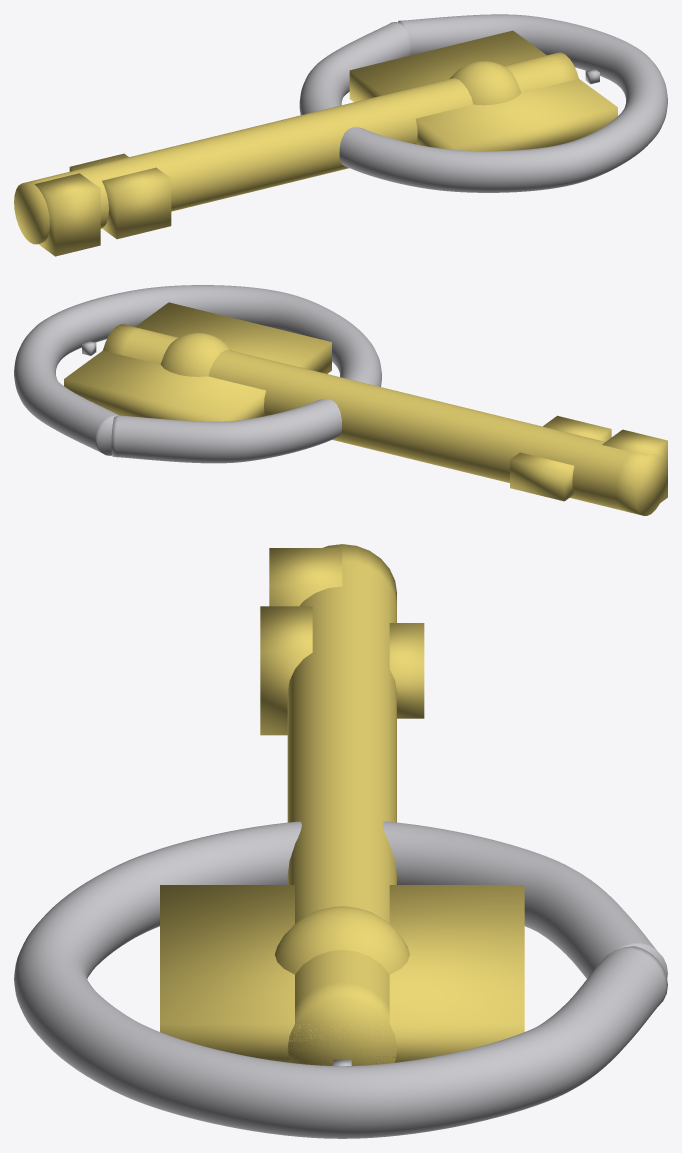
Rendered from tractor_keys.glb.
3 views of the same model, one above another, from view 1: azimuth 30°, elevation 25°; view 2: azimuth 150°, elevation 25°; view 3: azimuth 270°, elevation 25° (orthographic). The views are drawn at different scales.
Parts seen in each view (by area): view 1: KeyRing, KeyShaft, KeyBow, Tooth3, Tooth1, Eyelet; view 2: KeyRing, KeyShaft, KeyBow, Tooth2, Eyelet, Tooth3, Tooth1; view 3: KeyRing, KeyShaft, KeyBow, Eyelet, Tooth1, Tooth3, Tooth2.
Boxes of the visible parts, left/top/right/bottom form: KeyRing: left=299, top=14, right=667, bottom=192; KeyShaft: left=14, top=52, right=578, bottom=244; KeyBow: left=349, top=30, right=617, bottom=151; Tooth3: left=34, top=173, right=100, bottom=256; Tooth1: left=102, top=167, right=171, bottom=239; Eyelet: left=450, top=61, right=521, bottom=105; KeyRing: left=14, top=285, right=381, bottom=463; KeyShaft: left=103, top=324, right=667, bottom=515; KeyBow: left=64, top=302, right=331, bottom=421; Tooth2: left=510, top=452, right=574, bottom=501; Eyelet: left=160, top=333, right=231, bottom=376; Tooth3: left=602, top=429, right=667, bottom=502; Tooth1: left=543, top=415, right=611, bottom=441; KeyRing: left=14, top=821, right=667, bottom=1138; KeyShaft: left=287, top=544, right=396, bottom=1065; KeyBow: left=160, top=885, right=524, bottom=1065; Eyelet: left=275, top=906, right=409, bottom=974; Tooth1: left=260, top=606, right=312, bottom=735; Tooth3: left=269, top=548, right=342, bottom=606; Tooth2: left=389, top=623, right=424, bottom=718.
Size of the model in its own units: 0.068 by 0.008 by 0.0358.
